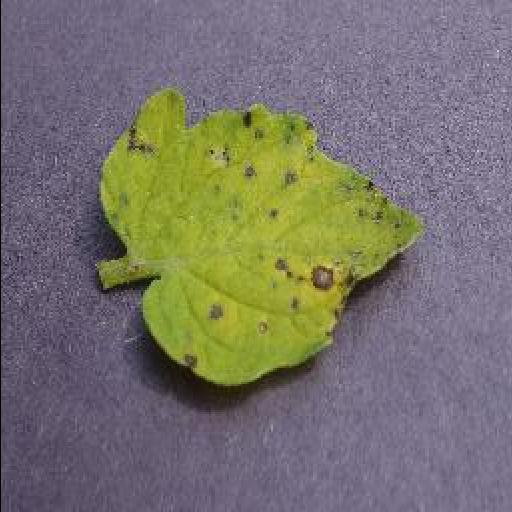disease_tomato: (102, 86, 426, 387)
